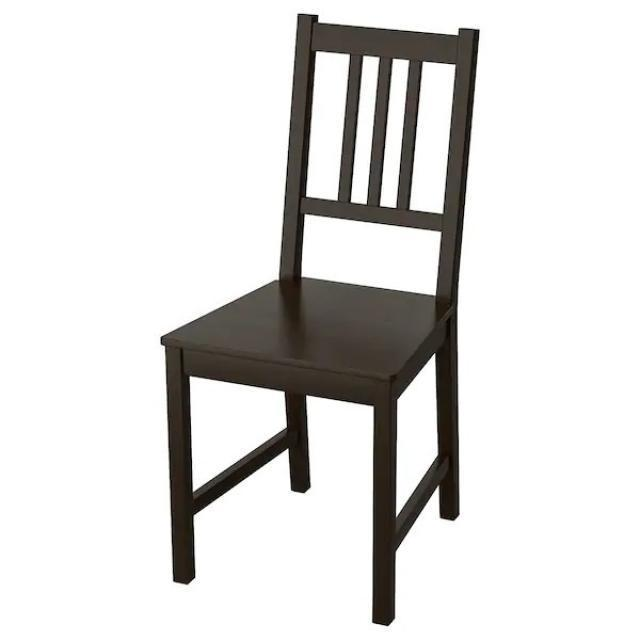chair: (159, 9, 481, 628)
